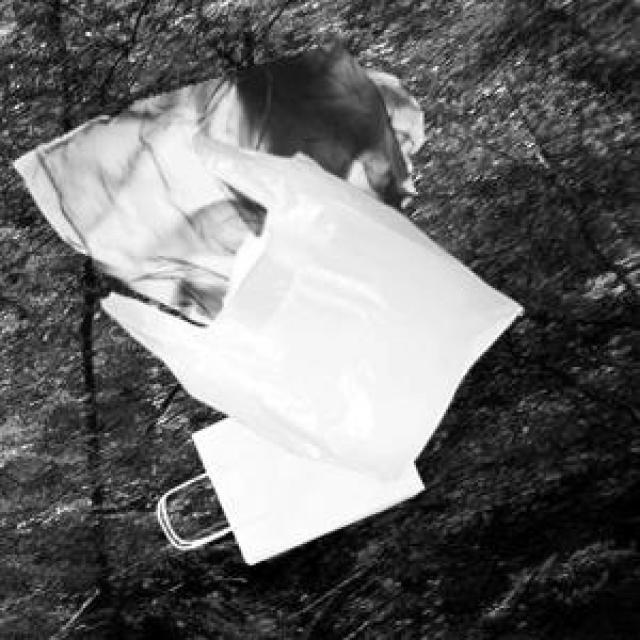paper: (173, 412, 420, 561)
